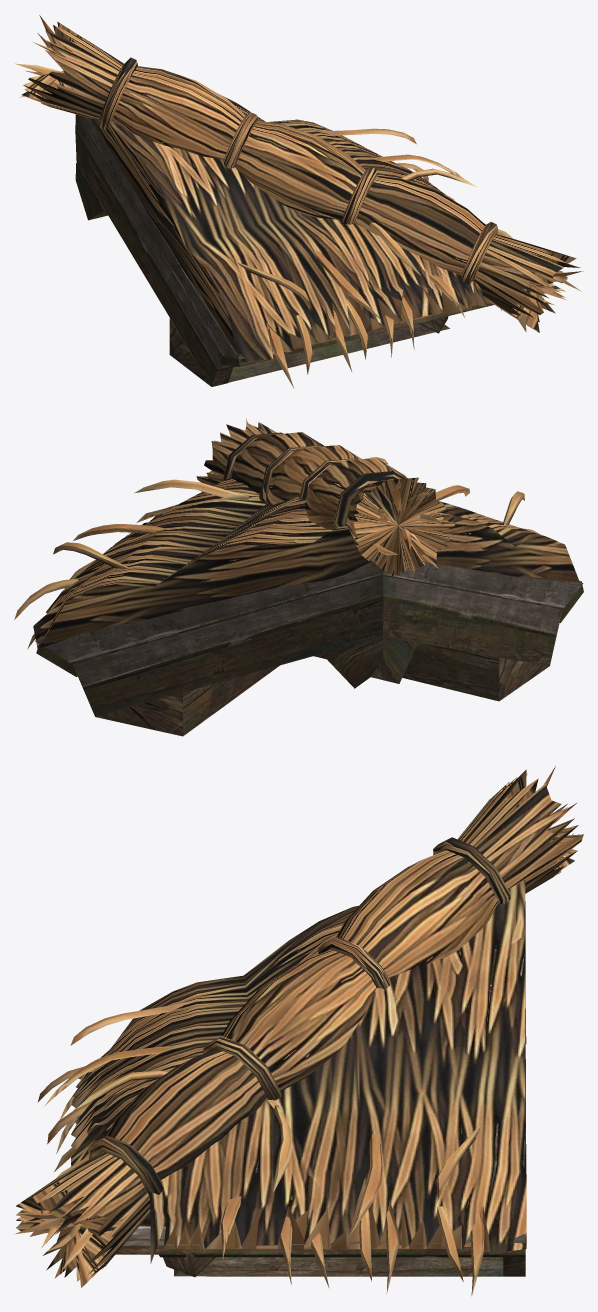
3 views of the same model, one above another, from view 1: azimuth 30°, elevation 25°; view 2: azimuth 150°, elevation 25°; view 3: azimuth 270°, elevation 25° (orthographic). The views are drawn at different scales.
Visible parts, largest first — view 1: SM_BB_T1_Extended_Roof_Med_Hip_Shallow_LOD0; view 2: SM_BB_T1_Extended_Roof_Med_Hip_Shallow_LOD0; view 3: SM_BB_T1_Extended_Roof_Med_Hip_Shallow_LOD0.
Part boxes in pixels (x1=…): SM_BB_T1_Extended_Roof_Med_Hip_Shallow_LOD0: x1=15, y1=15, x2=583, y2=388; SM_BB_T1_Extended_Roof_Med_Hip_Shallow_LOD0: x1=14, y1=419, x2=583, y2=736; SM_BB_T1_Extended_Roof_Med_Hip_Shallow_LOD0: x1=14, y1=766, x2=583, y2=1296.
Size of the model in its own units: 2.45 by 1.64 by 2.44.
3 materials, 3 textured.
